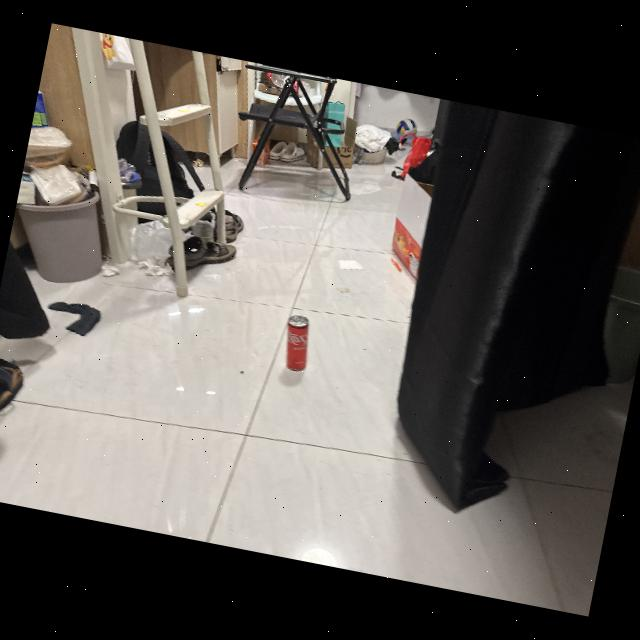Cola: (274, 306, 320, 376)
